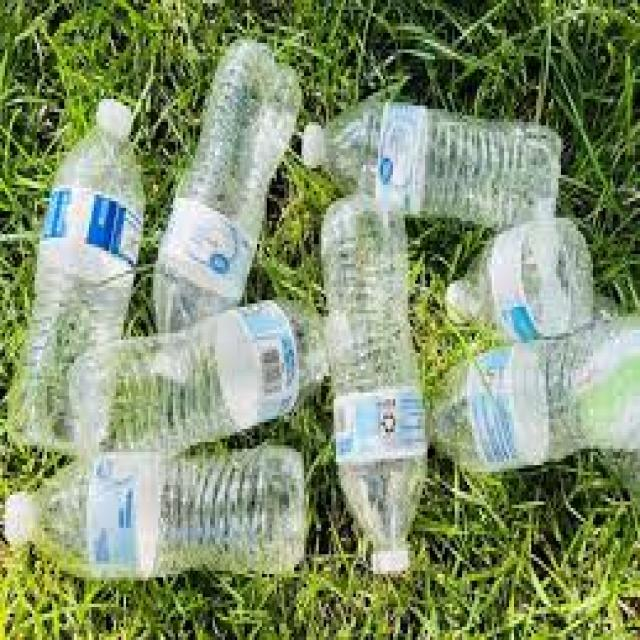plastic cup: (10, 100, 143, 451), (156, 40, 297, 331), (321, 192, 427, 572), (7, 446, 305, 578), (100, 300, 324, 453), (303, 98, 557, 229), (434, 319, 640, 470), (446, 219, 593, 341)
